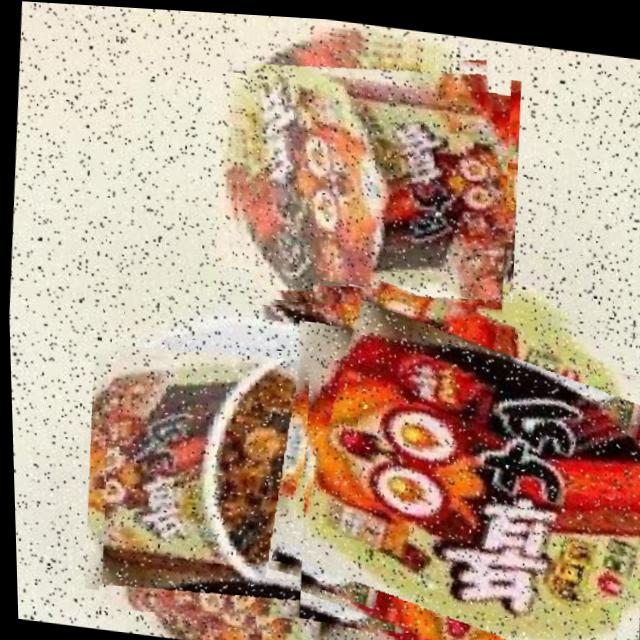Miscellaneous: (286, 272, 640, 640), (90, 327, 400, 640), (216, 13, 518, 323)
